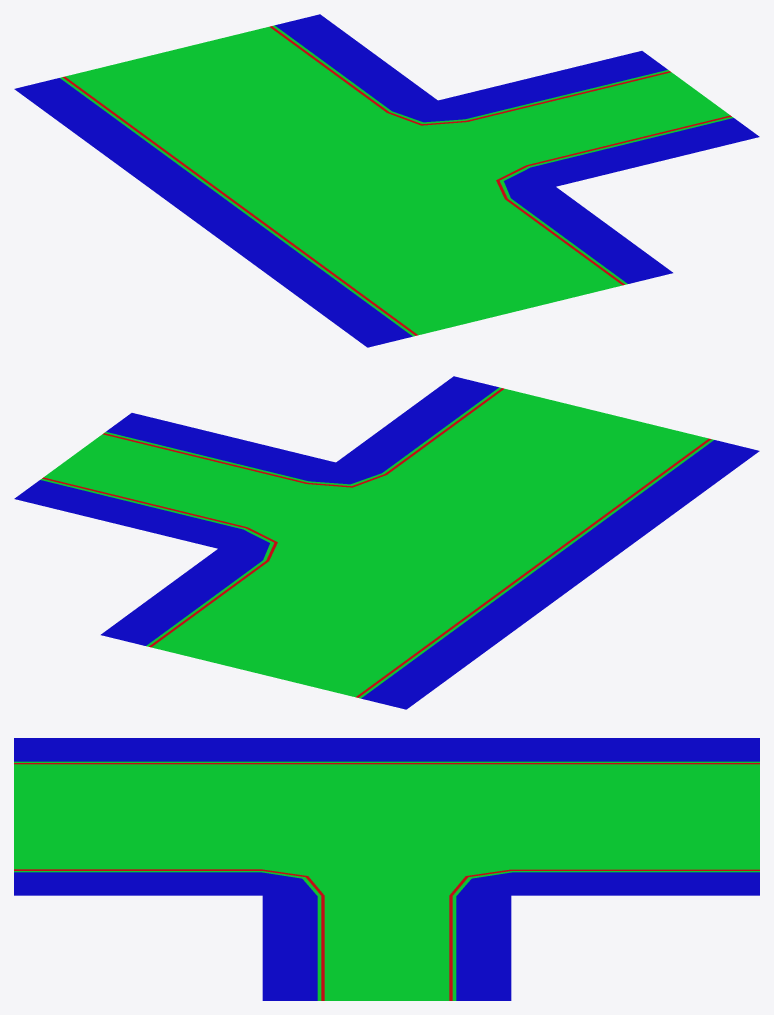
The model's file is wide_3way_1_thin 1.fbx.
3 views of the same model, one above another, from view 1: azimuth 30°, elevation 25°; view 2: azimuth 150°, elevation 25°; view 3: azimuth 270°, elevation 25° (orthographic). The views are drawn at different scales.
Visible parts, largest first — view 1: Plane.080; view 2: Plane.080; view 3: Plane.080.
Boxes of the visible parts, <box> form: Plane.080: <box>14,14,759,347</box>; Plane.080: <box>14,376,759,709</box>; Plane.080: <box>14,738,759,1000</box>.
Bounding box in the file's own units: 1000 × 0.000196 × 1200.
